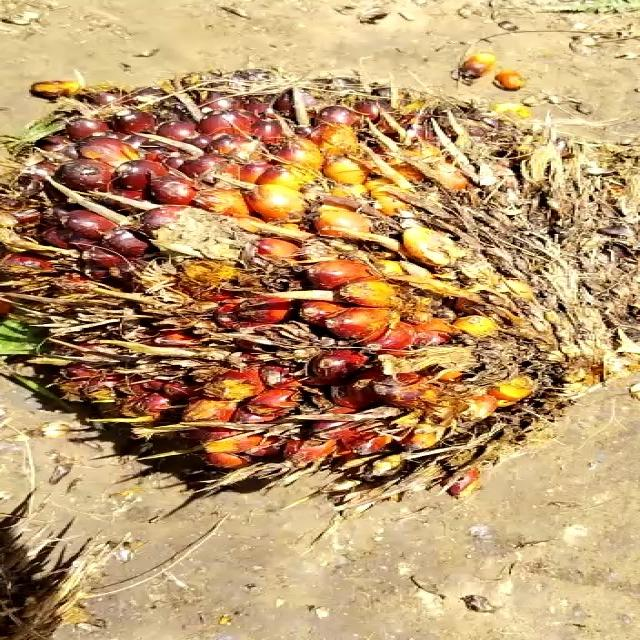palm oil: (0, 54, 640, 524)
